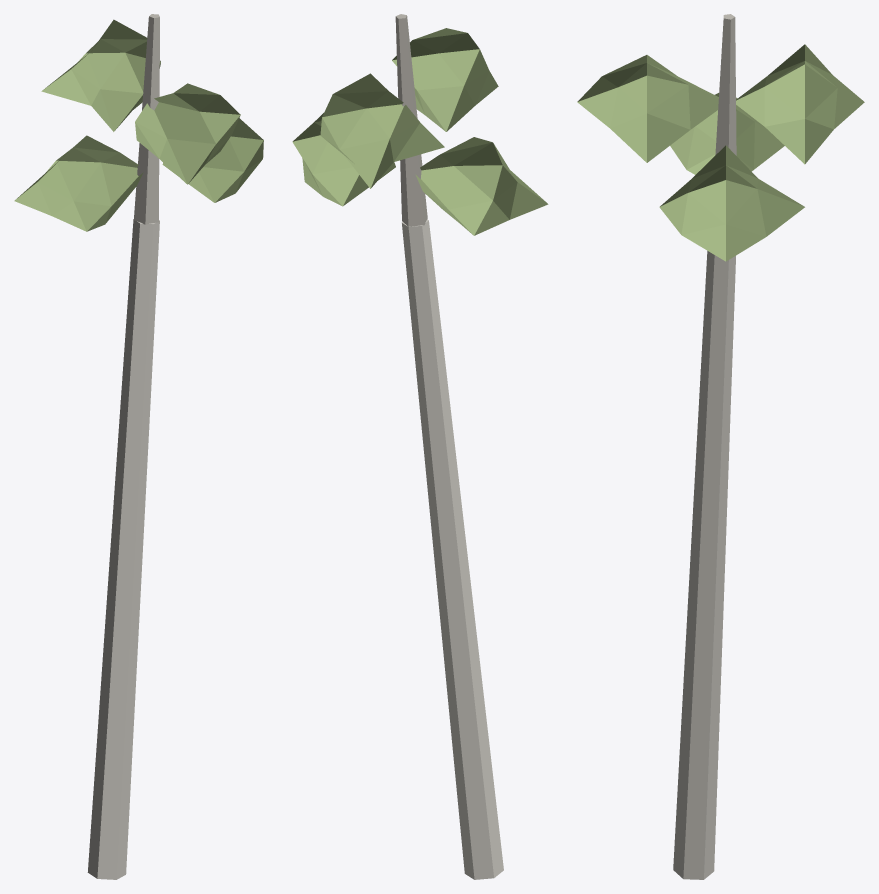
Rendered from birch_v03.glb.
3 views of the same model, side by side, from view 1: azimuth 30°, elevation 25°; view 2: azimuth 150°, elevation 25°; view 3: azimuth 270°, elevation 25° (orthographic). The views are drawn at different scales.
Visible parts, largest first — view 1: lod0; view 2: lod0; view 3: lod0.
Part boxes in pixels (x1,y1,x2,y2): lod0: (14, 14, 263, 879); lod0: (292, 14, 548, 879); lod0: (577, 14, 864, 879).
Size of what is drawn, in the model's own units: 1.95 by 6.21 by 1.82.
